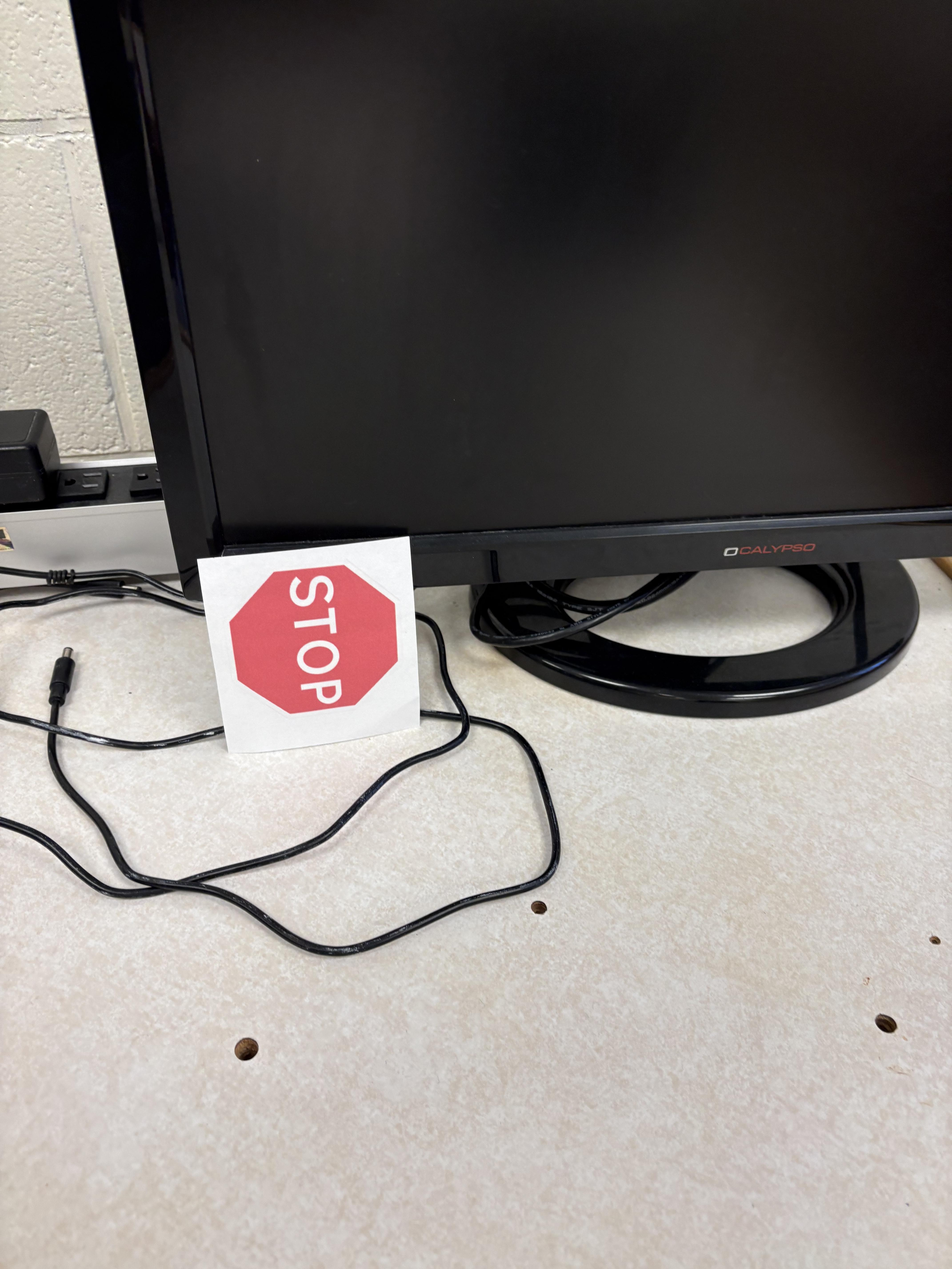Stop: (152, 714, 321, 1020)
